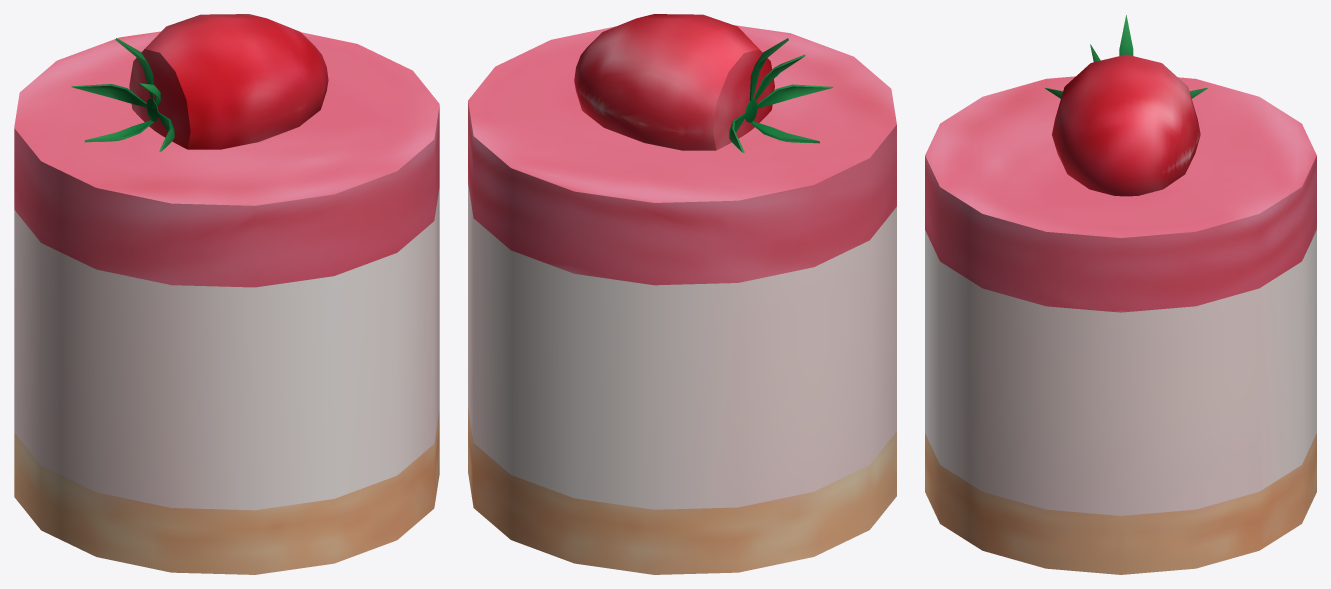
File: Doll_OB_Cake_005.fbx
3 renders of one model, left to right at view 1: azimuth 30°, elevation 25°; view 2: azimuth 150°, elevation 25°; view 3: azimuth 270°, elevation 25°, orthographic. The views are drawn at different scales.
Parts seen in each view (by area): view 1: Doll_OB_Cake_005; view 2: Doll_OB_Cake_005; view 3: Doll_OB_Cake_005.
Boxes of the visible parts, x1,y1,x2,y2 form: Doll_OB_Cake_005: [14, 14, 439, 574]; Doll_OB_Cake_005: [468, 14, 896, 574]; Doll_OB_Cake_005: [925, 15, 1316, 574].
Bounding box in the file's own units: 0.9143 × 1.11 × 0.9143.
Materials: 1 (1 with a texture image).
